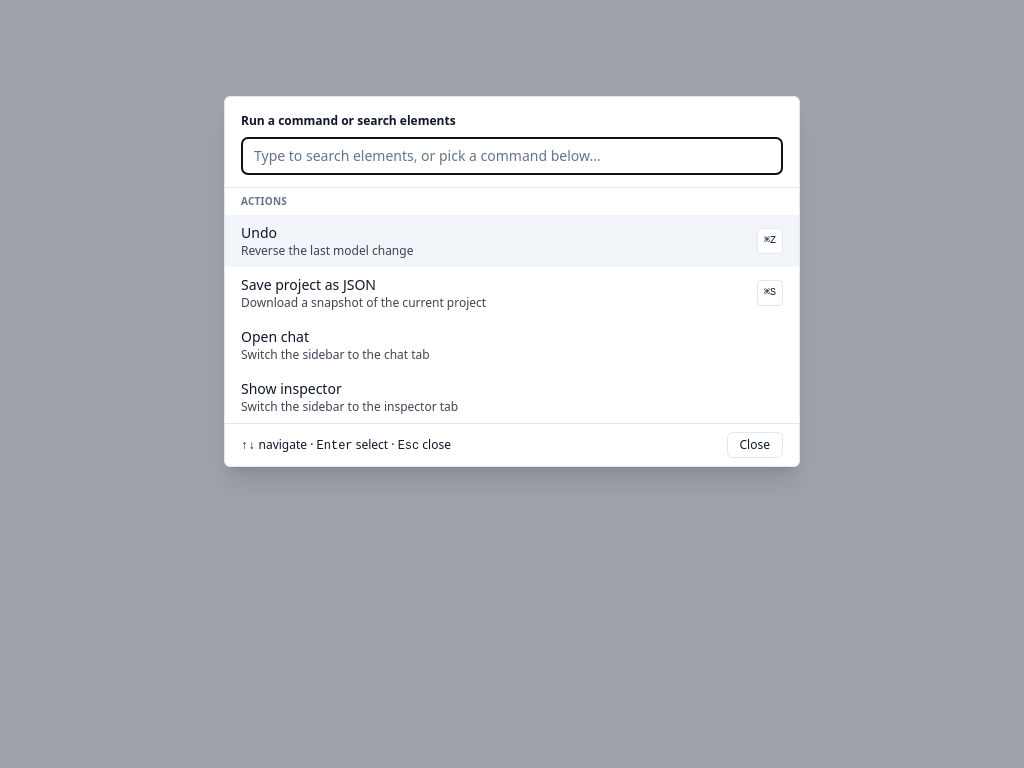
it: <CommandPalette /> (T-13.05a/b) › typing a non-element / non-command query hides the Actions section and the command rows
Type "alpha" into the dropdown with test id "command-palette-input".
click(512, 156); type("alpha")  # box 241,137 -> 783,175
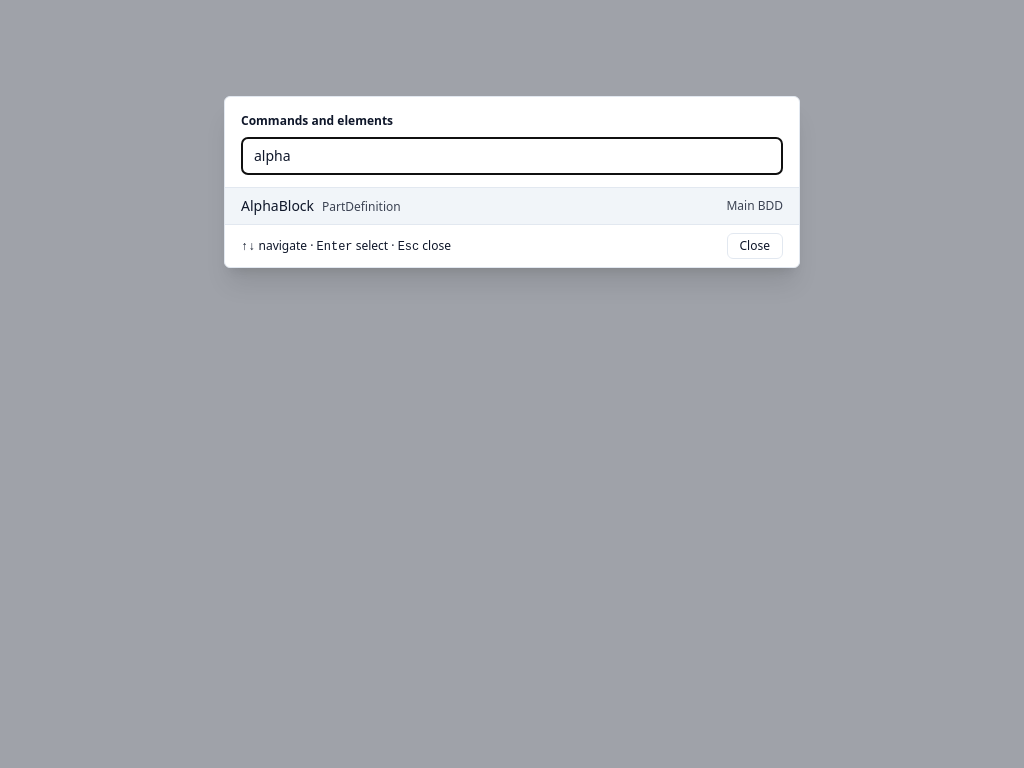
Expected: the list item with test id "command-palette-commands-header" is gone
